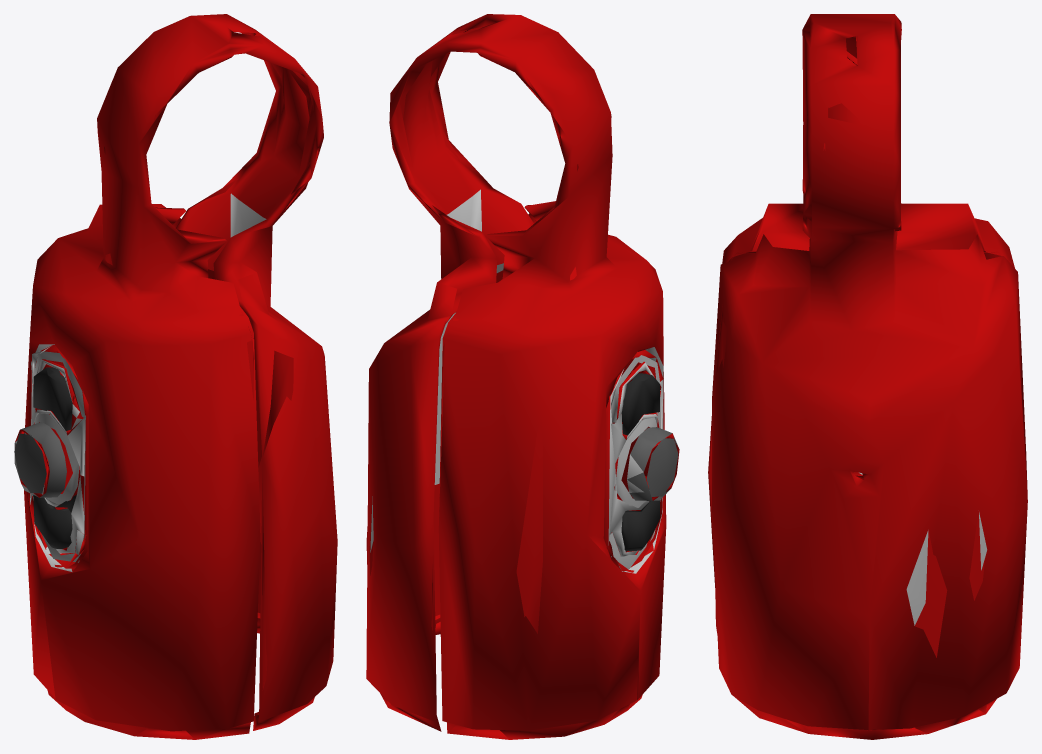
The model's file is W0_decimate2.dae.
The picture shows the model from 3 angles, left to right: view 1: azimuth 30°, elevation 25°; view 2: azimuth 150°, elevation 25°; view 3: azimuth 270°, elevation 25°; orthographic projection. The views are drawn at different scales.
Parts seen in each view (by area): view 1: W0; view 2: W0; view 3: W0.
Part boxes in pixels (<box>): W0: <box>14,14,337,739</box>; W0: <box>366,14,679,739</box>; W0: <box>708,14,1027,739</box>.
Bounding box in the file's own units: 0.1592 × 0.1486 × 0.3418.
